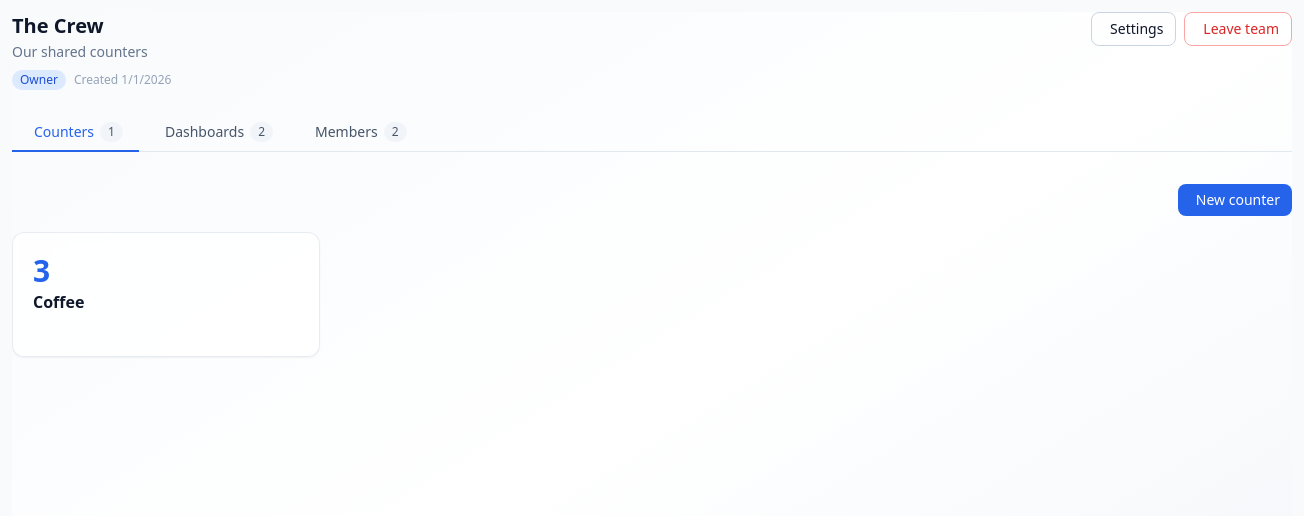
Team page › shows the full join URL in the Members tab when the join link is enabled
Click the tab "Members 2" at [358, 133], box [293, 114, 423, 152]
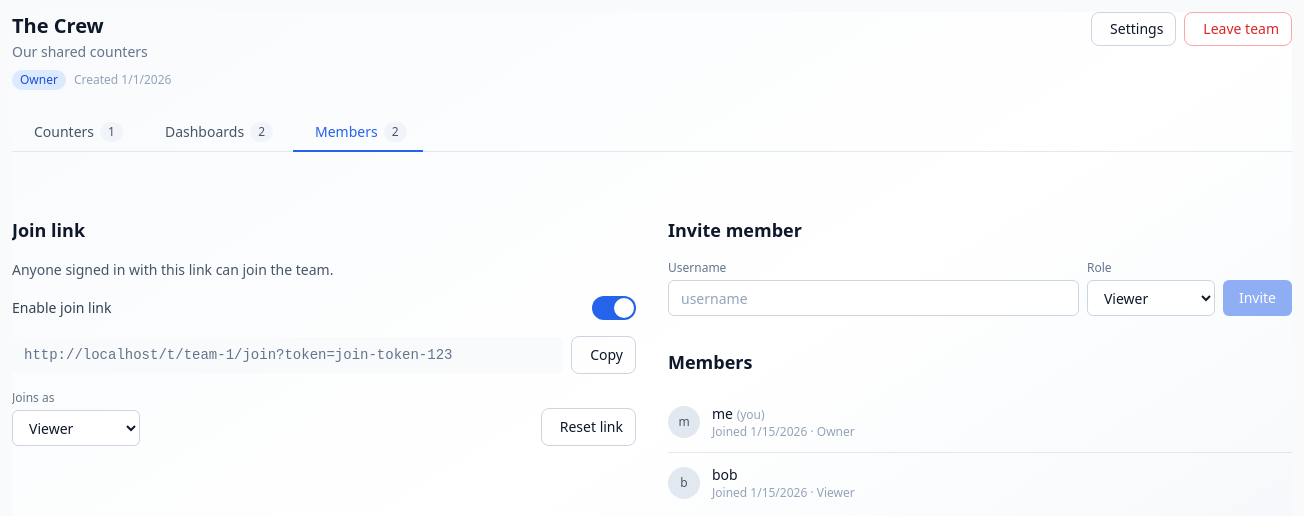
Expected: the text with test id "team-join-url" reads "http://localhost/t/team-1/join?token=join-token-123", [24, 347, 452, 363]
